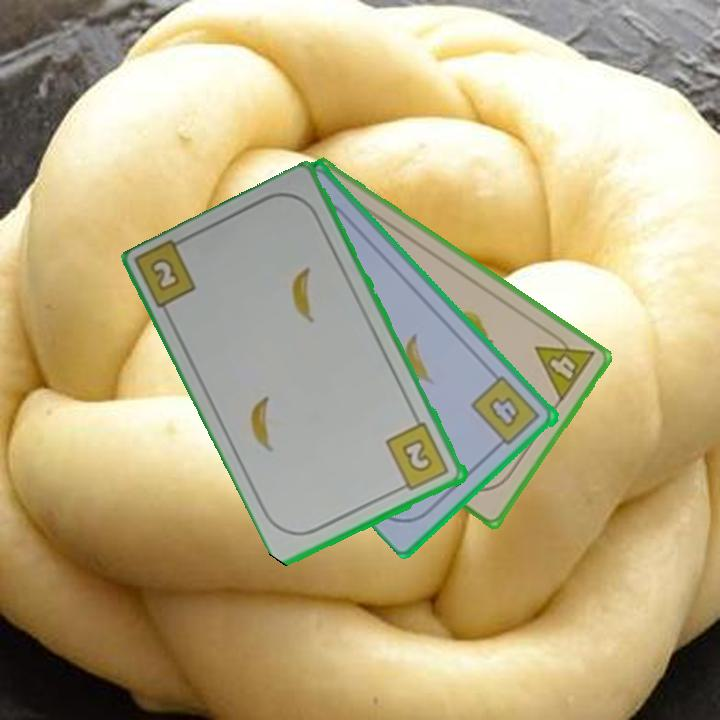2b: (382, 419, 452, 494), (146, 254, 184, 295)
4b: (468, 372, 544, 453)
4p: (531, 325, 598, 405)
